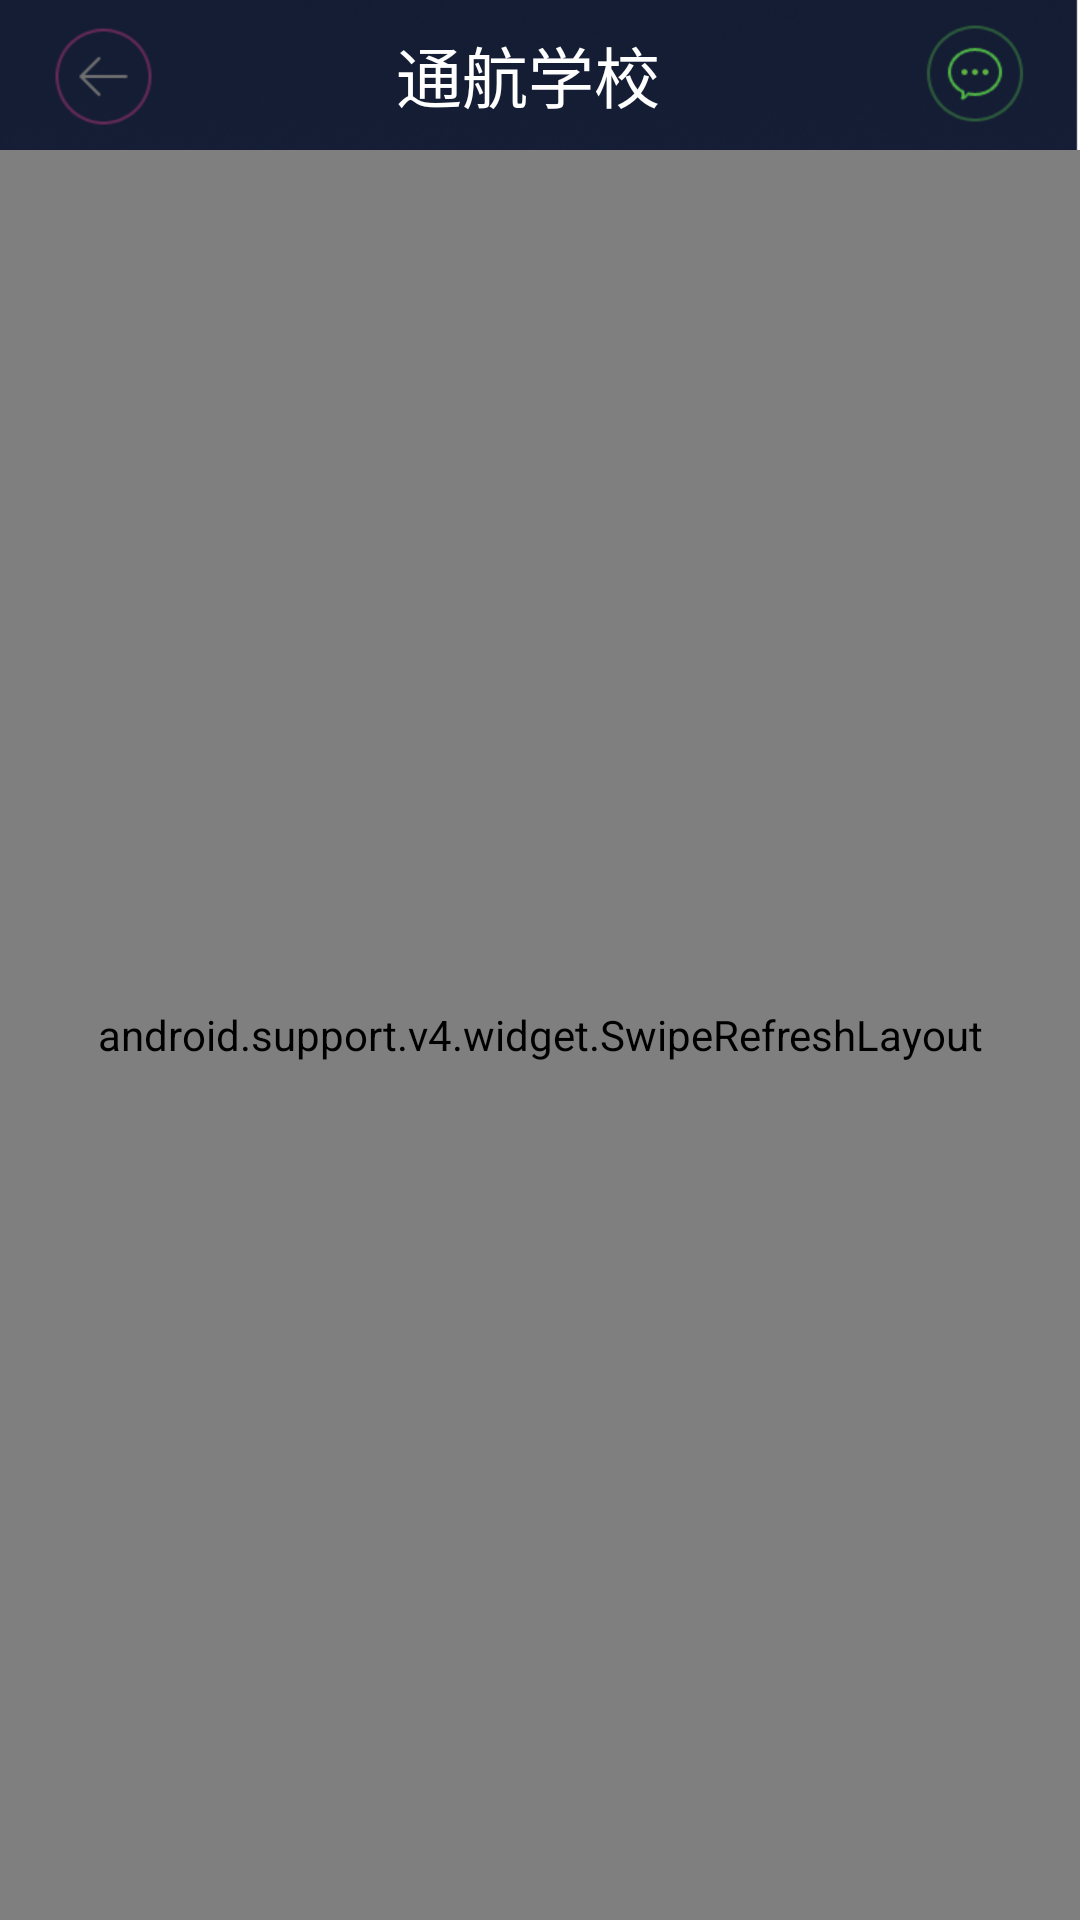

Point at icon controls on the screen. Image size 1080px×1920px, points as (x,y).
back: (103,76)
